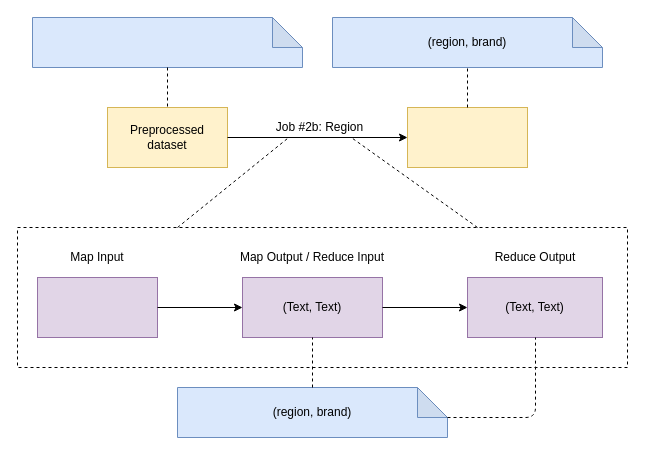
Image size: 645x455. Some labels were removed from this diagram. Each missing label, with the box of its shape:
(Object, Text): (36, 276, 158, 338)
(region, price, brand, fuel, odometer): (32, 16, 302, 68)
Top brand for each region: (406, 106, 528, 168)
